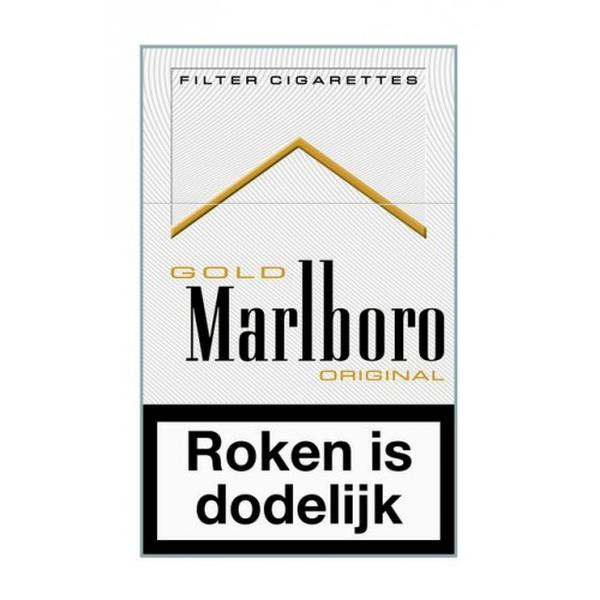marlboro_gold: (143, 47, 453, 556)
